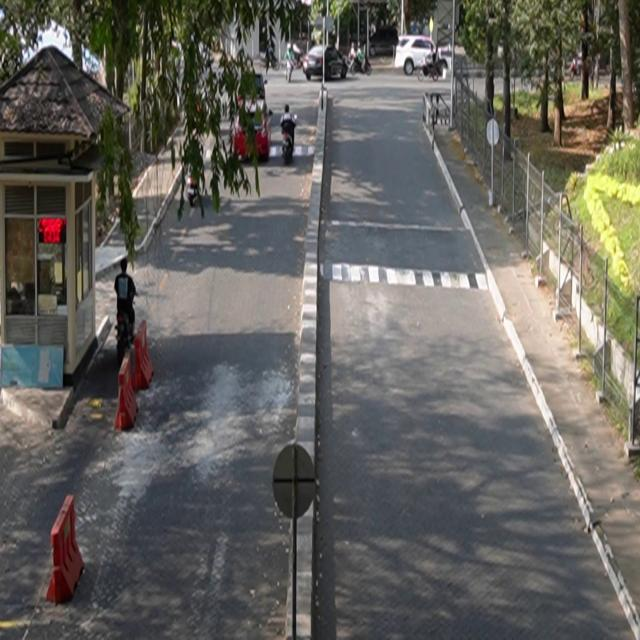car: (304, 46, 350, 82)
